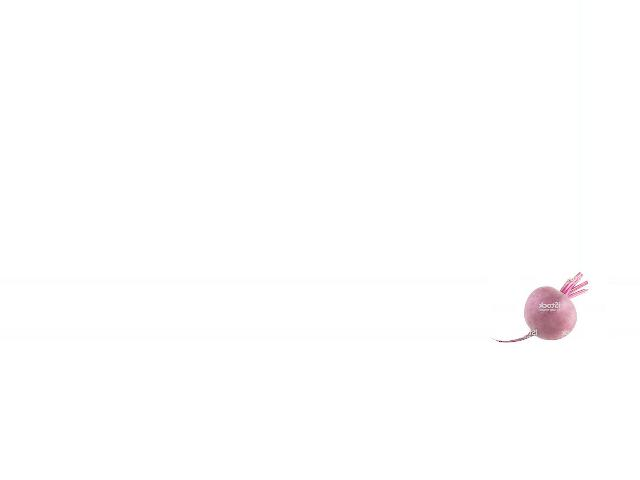beet: (490, 272, 588, 342)
